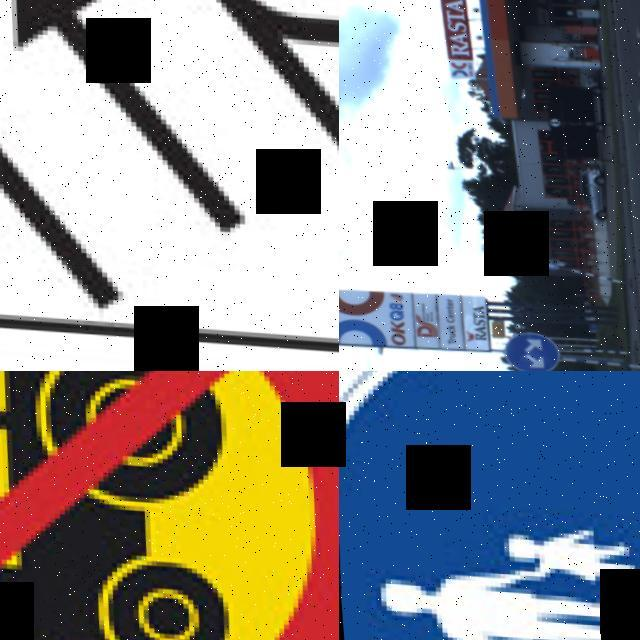48: (0, 371, 339, 640)
91: (339, 371, 640, 640)
93: (494, 323, 559, 371)
adjoining way: (0, 0, 339, 359)
